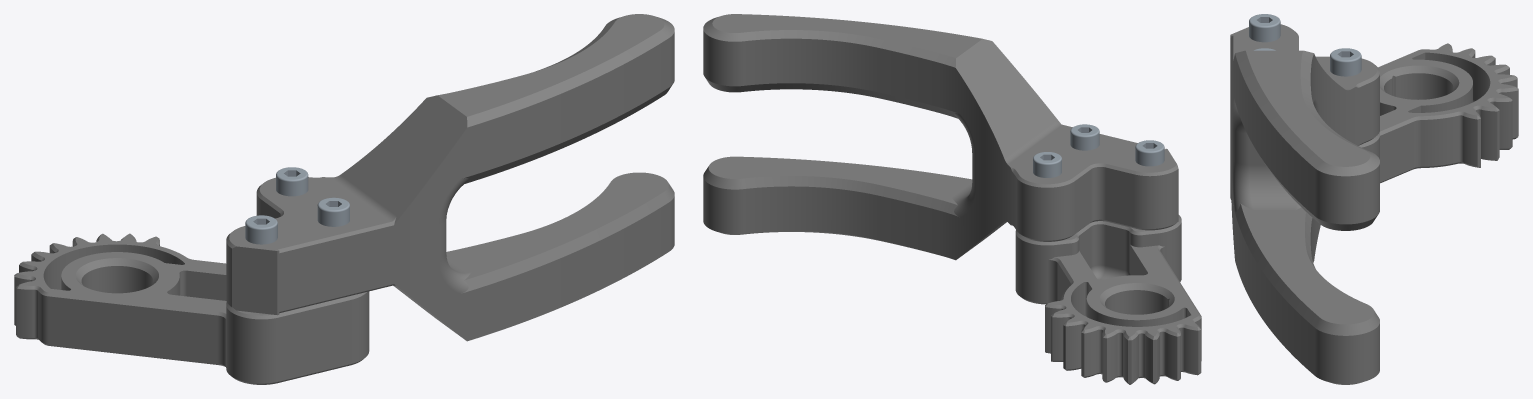
The picture shows the model from 3 angles, left to right: view 1: azimuth 30°, elevation 25°; view 2: azimuth 150°, elevation 25°; view 3: azimuth 270°, elevation 25°; orthographic projection. The views are drawn at different scales.
Visible parts, largest first — view 1: Finger(ChipStar)_b, finger_Idler, Hex socket head cap screw M3x0.50 x 25 (×3); view 2: Finger(ChipStar)_b, finger_Idler, Hex socket head cap screw M3x0.50 x 25 (×3); view 3: Finger(ChipStar)_b, finger_Idler, Hex socket head cap screw M3x0.50 x 25 (×2).
Boxes of the visible parts, left/top/right/bottom form: Finger(ChipStar)_b: left=226, top=14, right=674, bottom=341; finger_Idler: left=14, top=233, right=369, bottom=384; Hex socket head cap screw M3x0.50 x 25 (×3): left=245, top=167, right=349, bottom=244; Finger(ChipStar)_b: left=703, top=14, right=1178, bottom=260; finger_Idler: left=1015, top=215, right=1201, bottom=384; Hex socket head cap screw M3x0.50 x 25 (×3): left=1033, top=124, right=1164, bottom=177; Finger(ChipStar)_b: left=1230, top=24, right=1379, bottom=384; finger_Idler: left=1230, top=43, right=1518, bottom=199; Hex socket head cap screw M3x0.50 x 25 (×2): left=1249, top=14, right=1361, bottom=76.
Bounding box in the file's own units: 0.1176 × 0.0503 × 0.042.
